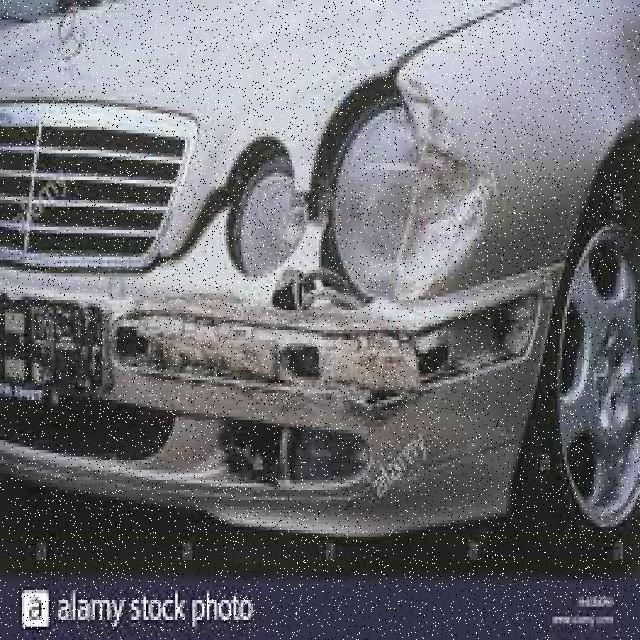fender-dent: (399, 7, 638, 294)
front-bumper-dent: (0, 280, 560, 540)
